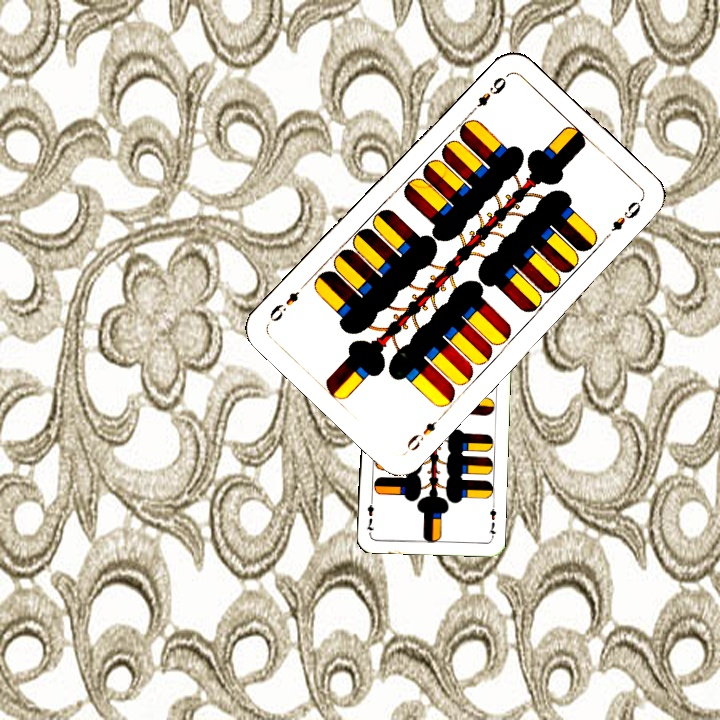E7: (485, 500, 499, 540)
E9: (466, 70, 511, 117), (402, 409, 447, 454)
